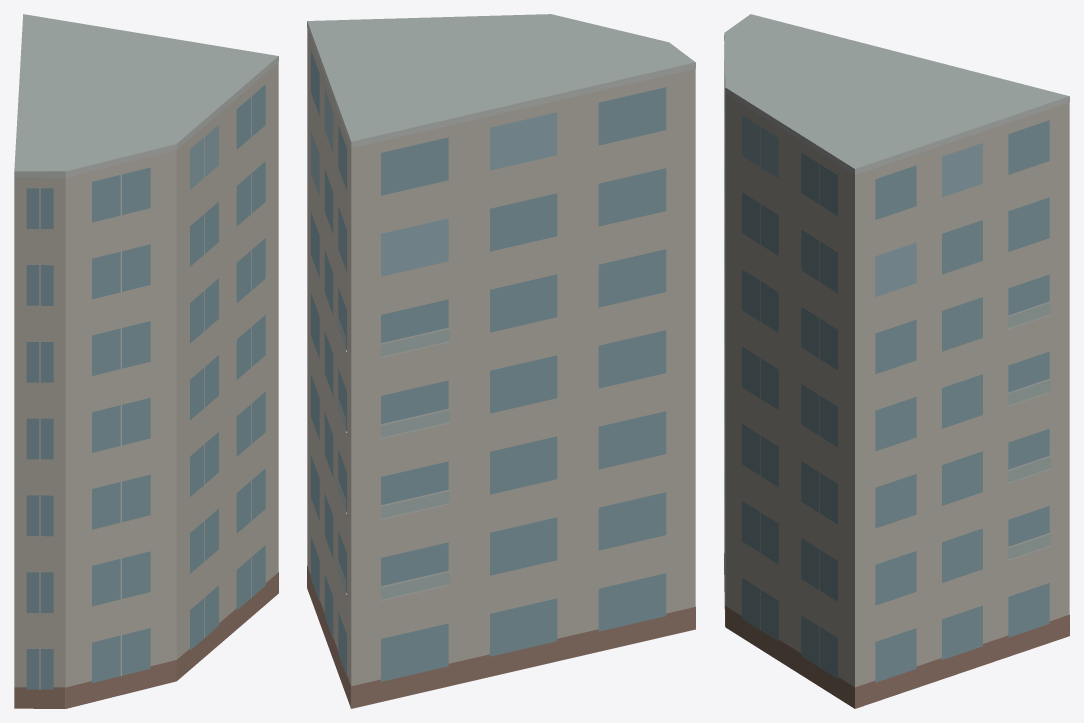
File: survey-upis-32586832.glb
3 renders of one model, left to right at view 1: azimuth 30°, elevation 25°; view 2: azimuth 150°, elevation 25°; view 3: azimuth 270°, elevation 25°, orthographic. The views are drawn at different scales.
Visible parts, largest first — view 1: survey-upis-32586832.tmp; view 2: survey-upis-32586832.tmp; view 3: survey-upis-32586832.tmp.
Part boxes in pixels (bbox=[...]): survey-upis-32586832.tmp: bbox=[14, 14, 278, 708]; survey-upis-32586832.tmp: bbox=[307, 14, 695, 708]; survey-upis-32586832.tmp: bbox=[724, 14, 1069, 708].
Bounding box in the file's own units: 13.13 × 21.3 × 12.36.
